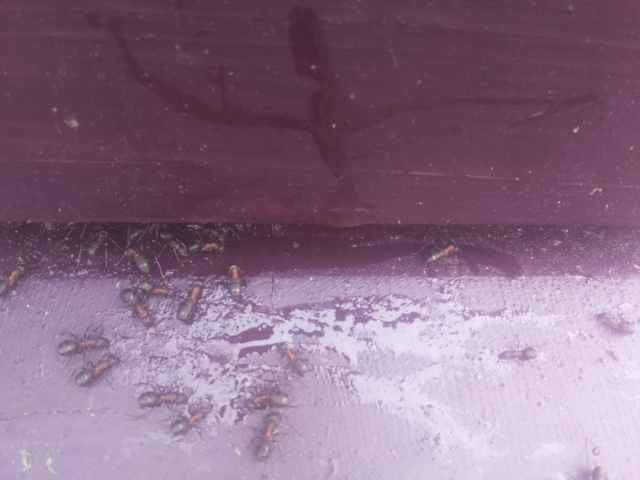ant: (113, 277, 159, 336), (68, 349, 125, 392), (252, 403, 287, 472), (165, 398, 214, 442), (50, 332, 117, 360), (173, 275, 207, 329), (273, 336, 314, 378), (137, 386, 190, 413), (496, 340, 539, 367), (592, 308, 632, 337), (121, 242, 154, 277), (425, 239, 462, 267), (0, 265, 26, 304), (224, 260, 248, 302), (84, 227, 113, 258)
